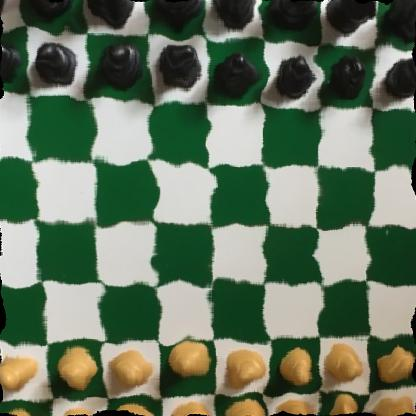black-bishop: (270, 0, 320, 35), (83, 0, 135, 29)
black-king: (207, 0, 260, 33)
black-knight: (329, 0, 379, 37), (16, 0, 76, 20)
black-pawn: (92, 42, 147, 93), (34, 35, 81, 92), (160, 40, 203, 96), (269, 48, 314, 101), (210, 48, 255, 96), (327, 48, 367, 101), (378, 51, 416, 103), (0, 29, 26, 85)
black-queen: (154, 0, 205, 31)
black-rook: (384, 0, 416, 39), (0, 0, 15, 13)
white-bishop: (272, 394, 322, 416), (114, 399, 162, 416)
white-king: (223, 398, 266, 416)
white-knight: (326, 392, 369, 416), (47, 402, 98, 416)
white-pawn: (55, 345, 103, 393), (162, 342, 213, 384), (108, 351, 156, 393), (222, 350, 269, 391), (0, 351, 42, 391), (275, 345, 313, 388), (377, 343, 416, 383), (323, 342, 361, 381)
white-queen: (162, 400, 214, 416)
white-rook: (371, 392, 416, 416), (0, 406, 49, 416)
